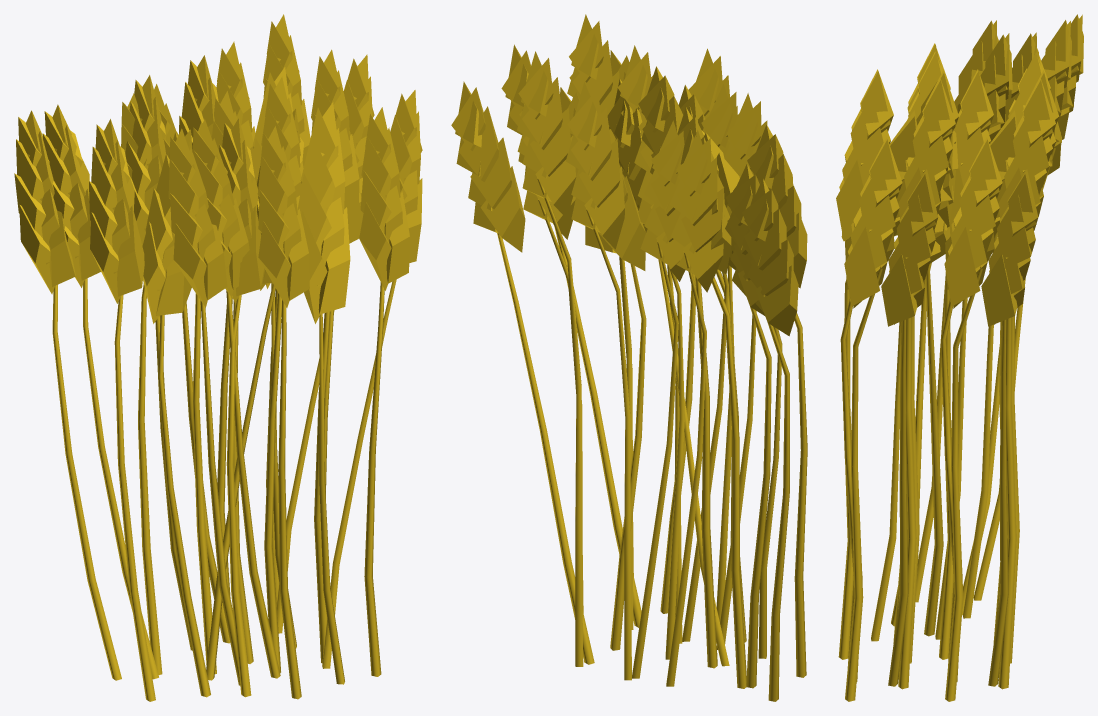
Rendered from WheatBatch.fbx.
3 views of the same model, side by side, from view 1: azimuth 30°, elevation 25°; view 2: azimuth 150°, elevation 25°; view 3: azimuth 270°, elevation 25° (orthographic). The views are drawn at different scales.
Visible parts, largest first — view 1: WheatBatch; view 2: WheatBatch; view 3: WheatBatch.
Boxes of the visible parts, x1=… form: WheatBatch: x1=14, y1=14, x2=422, y2=701; WheatBatch: x1=451, y1=14, x2=807, y2=701; WheatBatch: x1=836, y1=14, x2=1083, y2=701.
Bounding box in the file's own units: 284 × 479 × 174.
